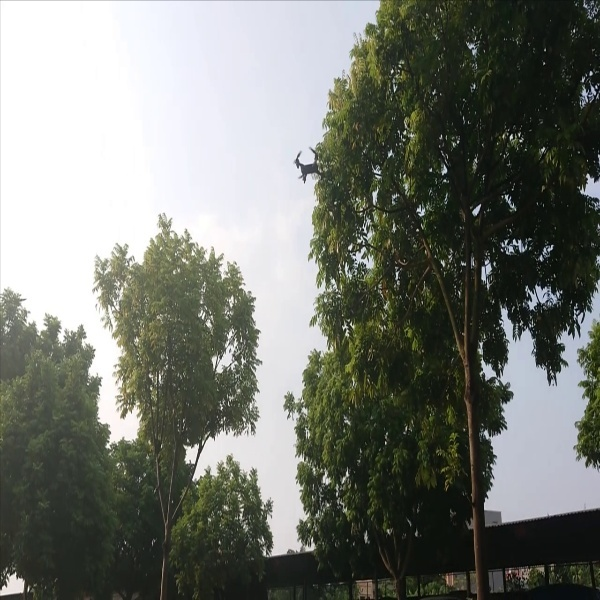drone: (286, 145, 329, 185)
